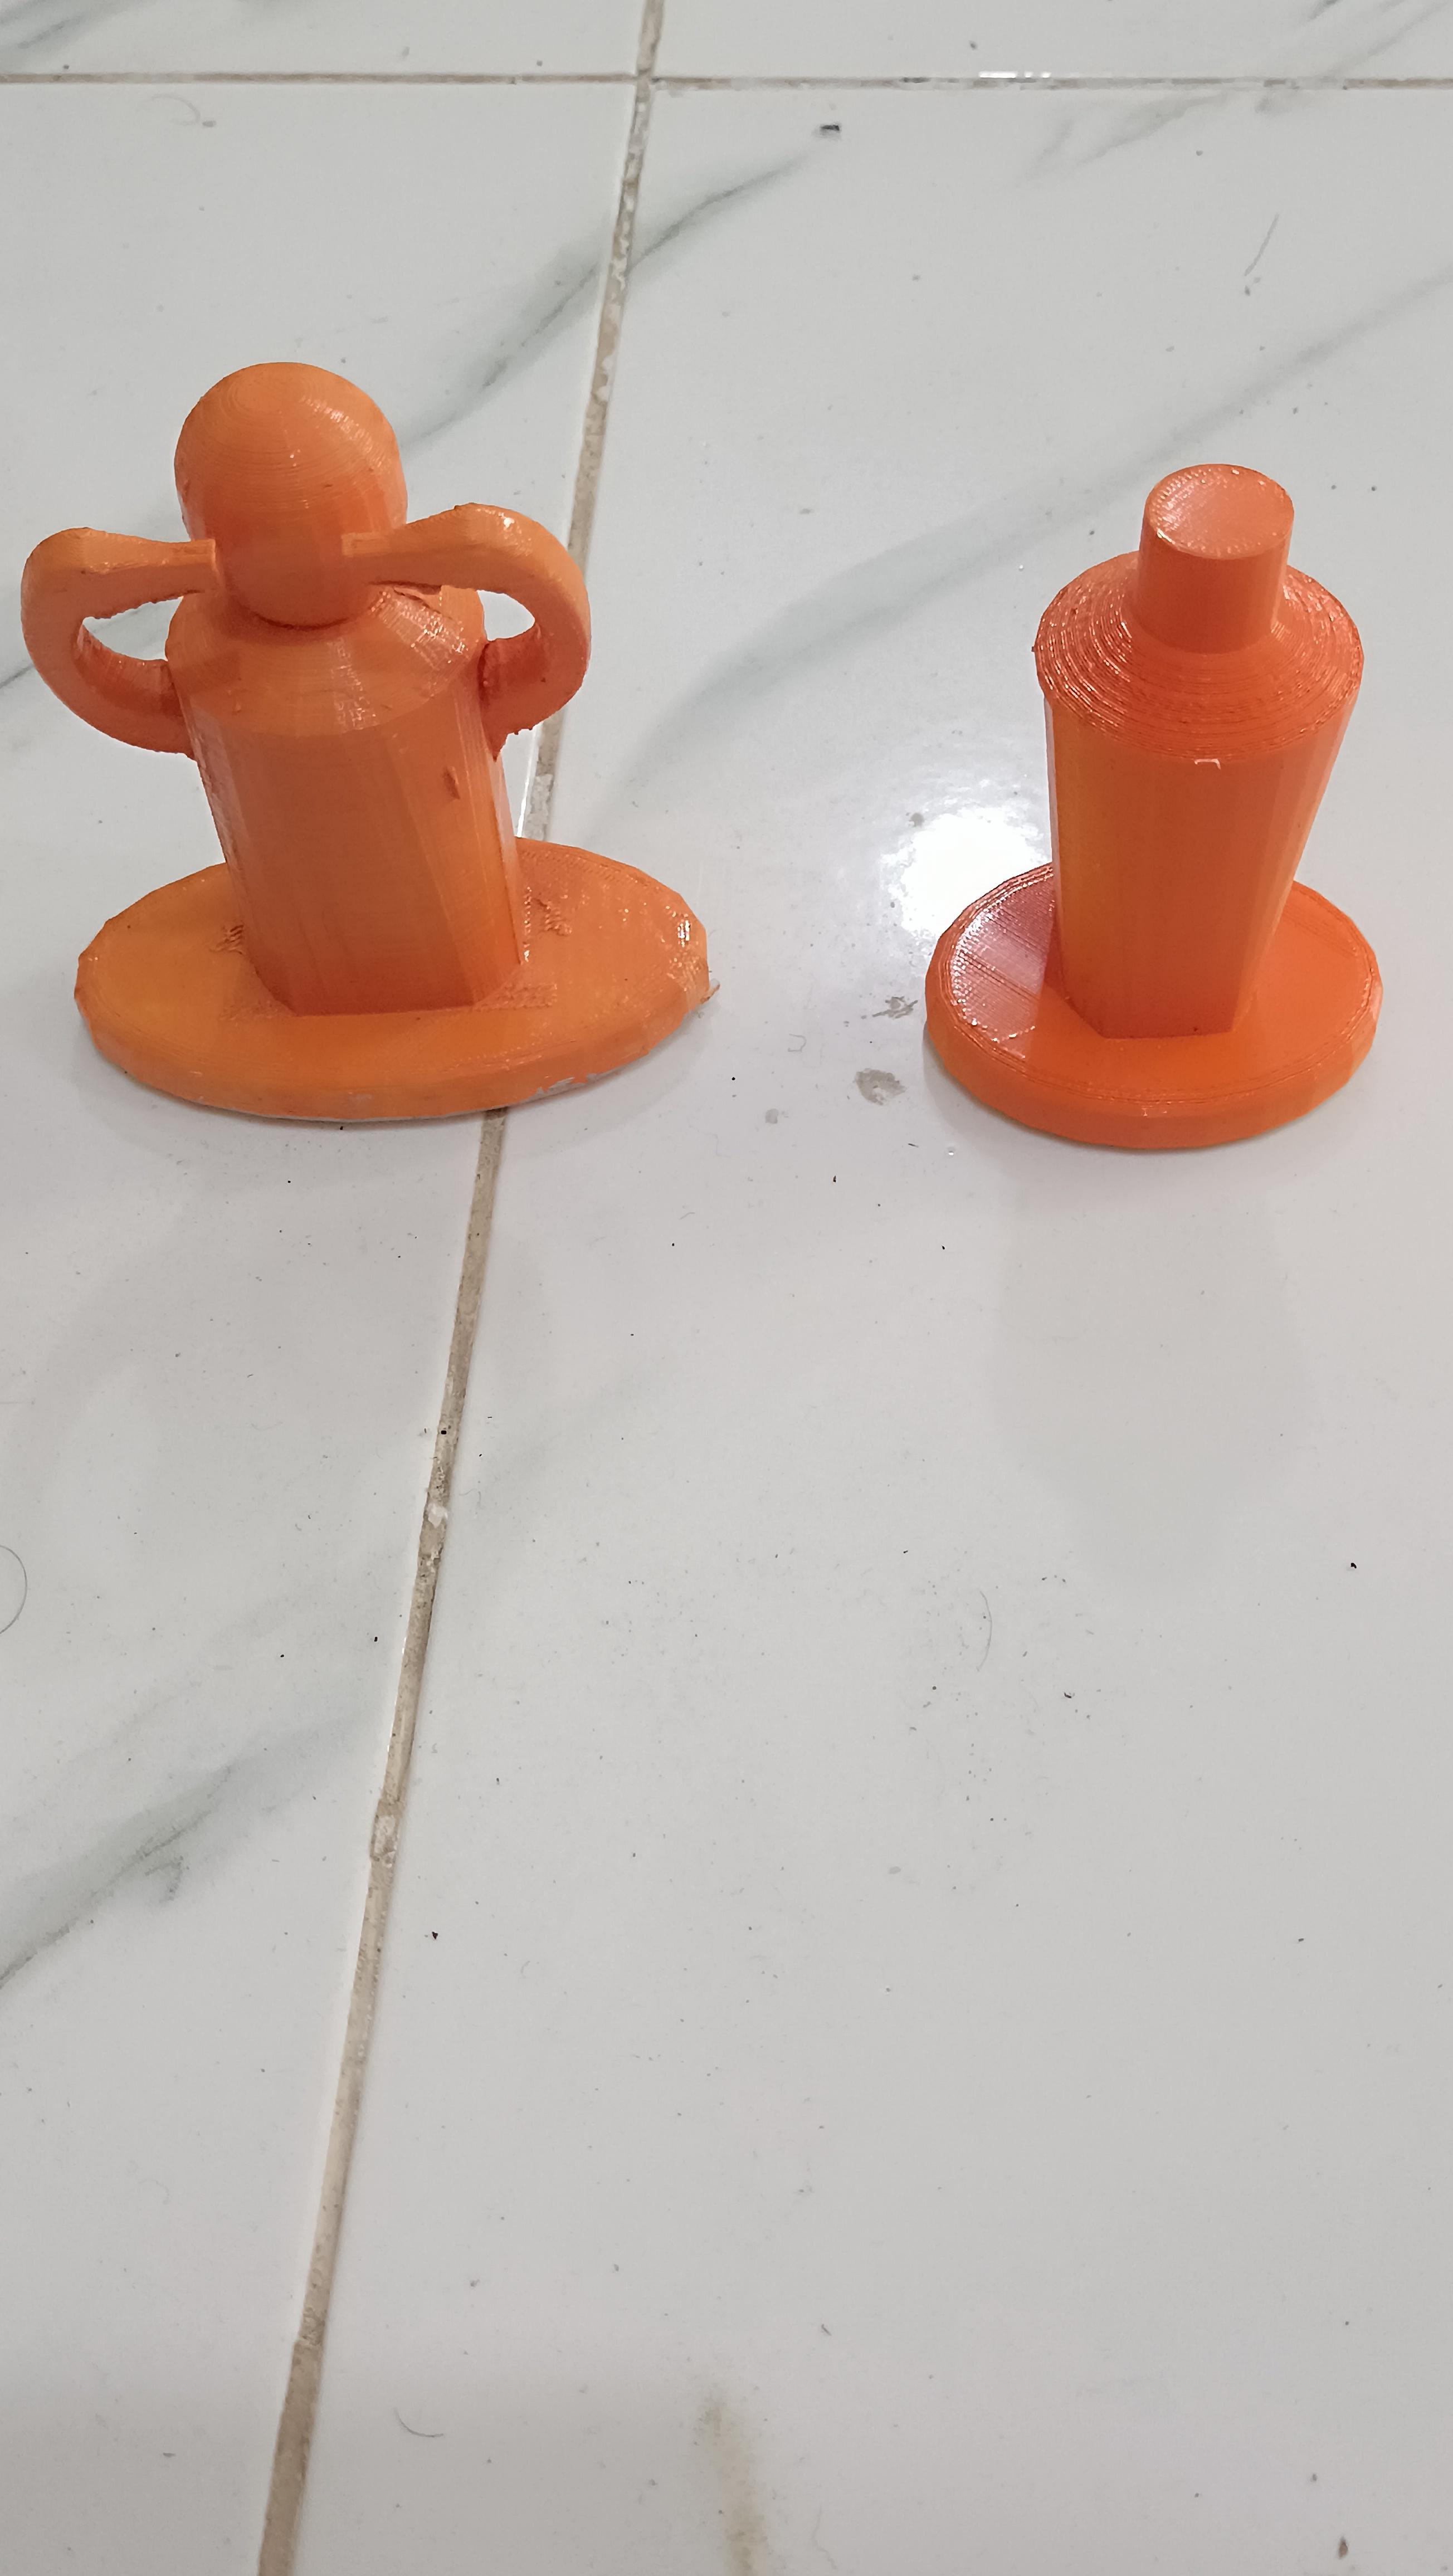dummy: (911, 407, 1418, 1174)
real_person: (0, 301, 748, 1171)
